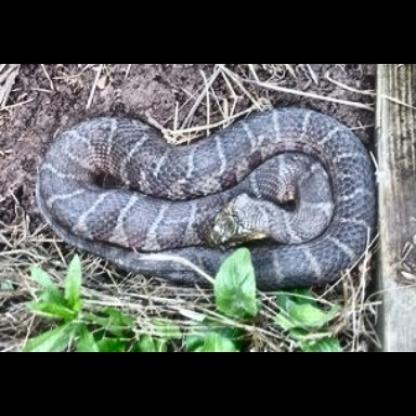Snake: (29, 103, 382, 288)
